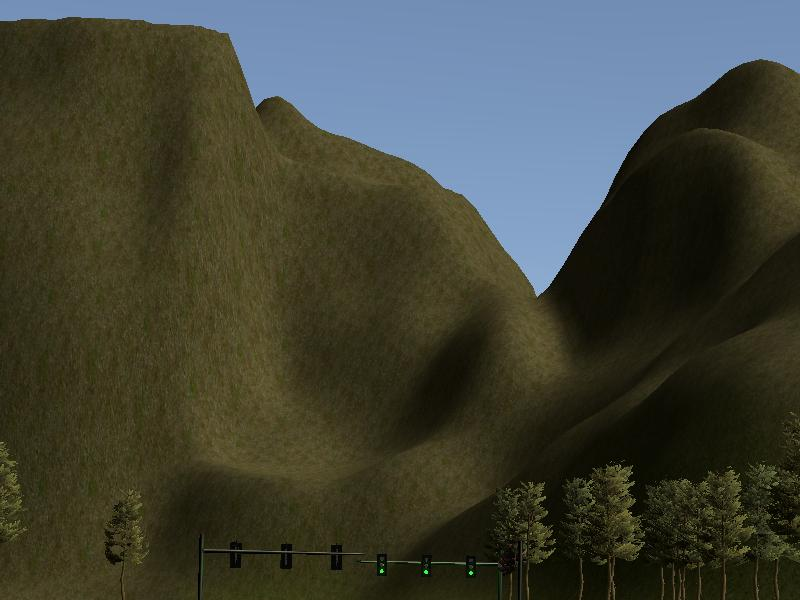Green: (376, 554, 387, 576), (421, 557, 430, 577), (466, 559, 475, 577)
